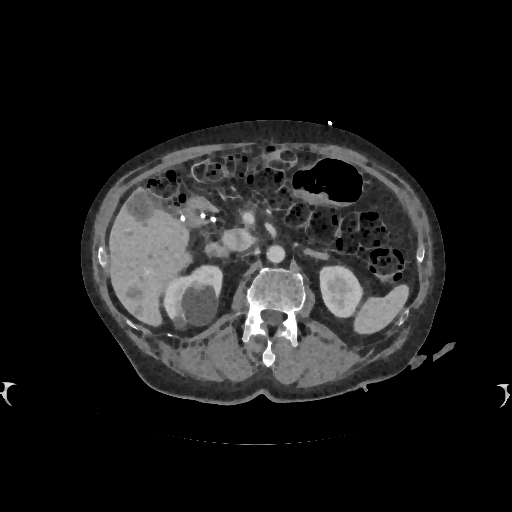Lesion: (188, 278, 209, 290)
